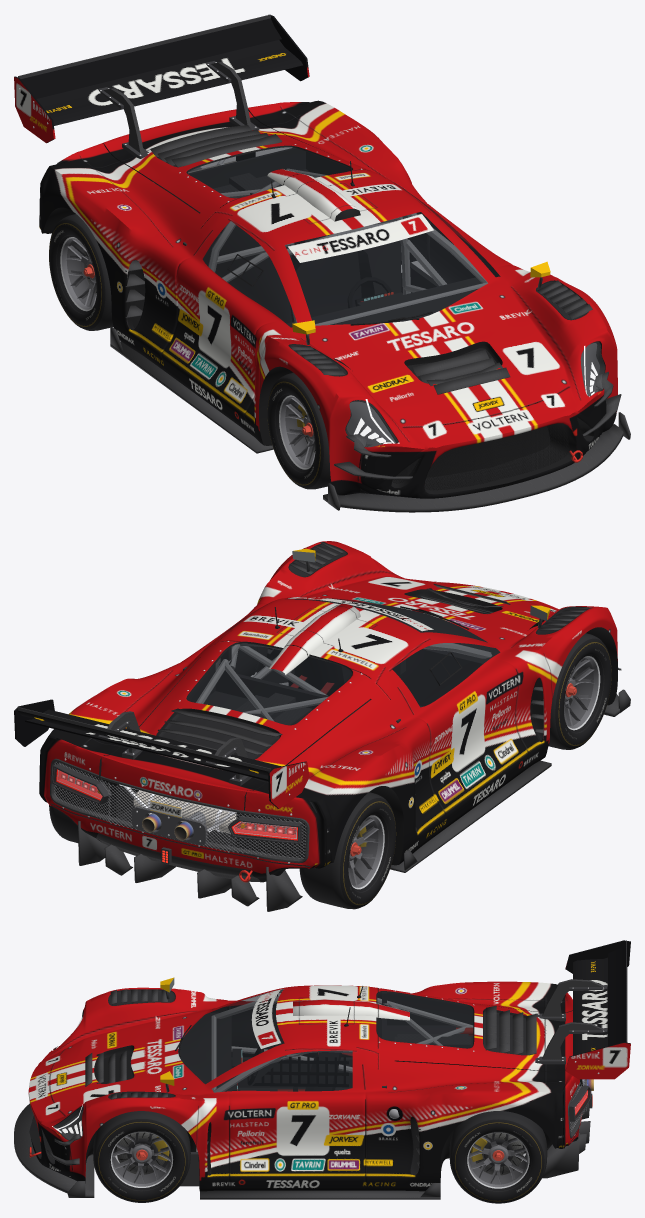
File: gtcar.glb
The picture shows the model from 3 angles, top to bottom: view 1: azimuth 30°, elevation 25°; view 2: azimuth 150°, elevation 25°; view 3: azimuth 270°, elevation 25°; orthographic projection. The views are drawn at different scales.
Visible parts, largest first — view 1: Body, Cabin, Wing, Louvres, Grille, Splitter, WheelRearRTyre, WheelFrontRTyre, SunStrip, WingMounts, Skirts, HeadlampLens (+7 smaller); view 2: Body, Cabin, Wing, WheelRearRTyre, Diffuser, TailMesh, WheelFrontRTyre, Louvres, RearLamps, TailFrame, RoofScoop, Skirts (+13 smaller); view 3: Body, Cabin, Wing, WheelRearLTyre, WheelFrontLTyre, Louvres, Skirts, Splitter, WheelRearLRim, WheelFrontLRim, WheelFrontLRimBlur, WheelRearLRimBlur (+11 smaller).
Part boxes in pixels (x1,y1,x2,y2): Body: [39, 100, 617, 498]; Cabin: [153, 148, 487, 443]; Wing: [14, 14, 309, 143]; Louvres: [150, 125, 592, 394]; Grille: [360, 388, 601, 493]; Splitter: [323, 412, 630, 512]; WheelRearRTyre: [49, 214, 113, 330]; WheelFrontRTyre: [267, 372, 331, 489]; SunStrip: [288, 214, 433, 262]; WingMounts: [18, 14, 270, 153]; Skirts: [110, 273, 402, 453]; HeadlampLens: [346, 342, 604, 446]; Body: [39, 541, 617, 882]; Cabin: [183, 601, 499, 749]; Wing: [14, 699, 309, 808]; WheelRearRTyre: [299, 792, 396, 909]; Diffuser: [78, 821, 302, 911]; TailMesh: [54, 762, 306, 858]; WheelFrontRTyre: [548, 633, 611, 749]; Louvres: [157, 542, 592, 754]; RearLamps: [52, 763, 302, 843]; TailFrame: [50, 758, 309, 863]; RoofScoop: [268, 603, 360, 675]; Skirts: [390, 760, 551, 872]; Body: [28, 981, 582, 1191]; Cabin: [160, 992, 472, 1186]; Wing: [565, 940, 630, 1079]; WheelRearLTyre: [449, 1111, 547, 1203]; WheelFrontLTyre: [93, 1111, 190, 1202]; Louvres: [85, 989, 536, 1099]; Skirts: [200, 1183, 440, 1199]; Splitter: [14, 1103, 94, 1197]; WheelRearLRim: [467, 1132, 529, 1188]; WheelFrontLRim: [110, 1131, 173, 1187]; WheelFrontLRimBlur: [113, 1132, 170, 1183]; WheelRearLRimBlur: [469, 1133, 526, 1184].
Bounding box in the file's own units: 2.21 × 1.36 × 4.85.
43 materials, 10 textured.
